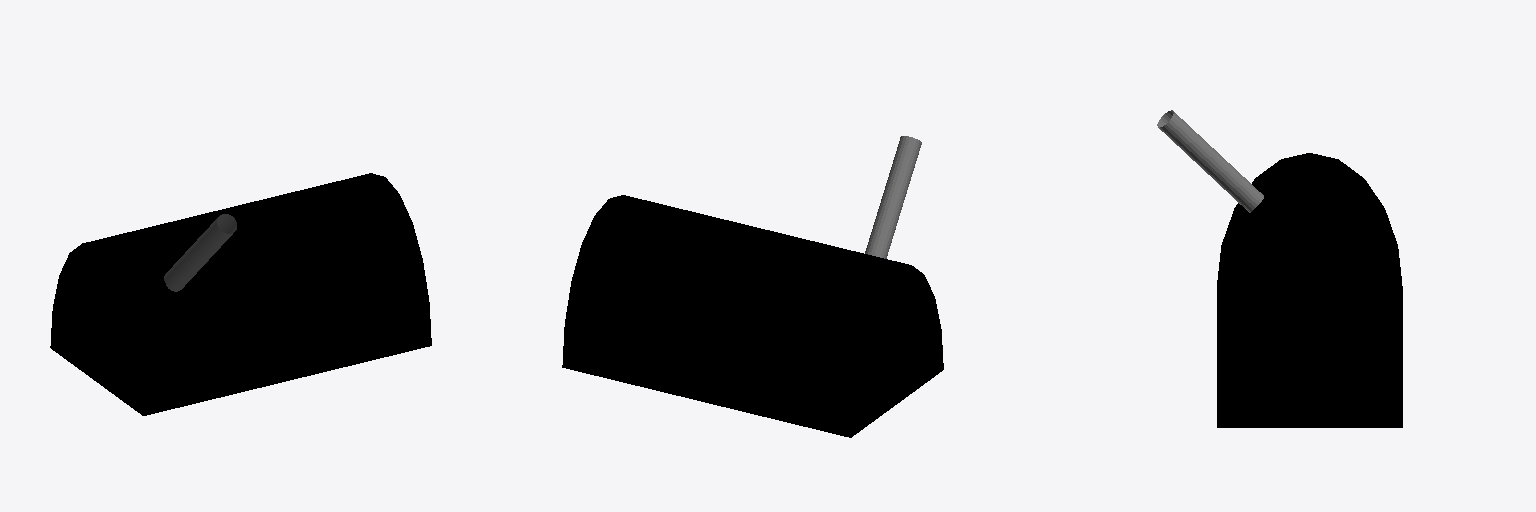
Rendered from Muur_2.obj.
3 renders of one model, left to right at view 1: azimuth 30°, elevation 25°; view 2: azimuth 150°, elevation 25°; view 3: azimuth 270°, elevation 25°, orthographic.
Visible parts, largest first — view 1: pCylinder8; view 2: pCylinder8; view 3: pCylinder8.
Boxes of the visible parts, x1,y1,x2,y2 form: pCylinder8: [50, 173, 431, 415]; pCylinder8: [562, 136, 943, 437]; pCylinder8: [1157, 110, 1402, 427].
Size of the model in its own units: 14.19 by 9.58 by 10.45.